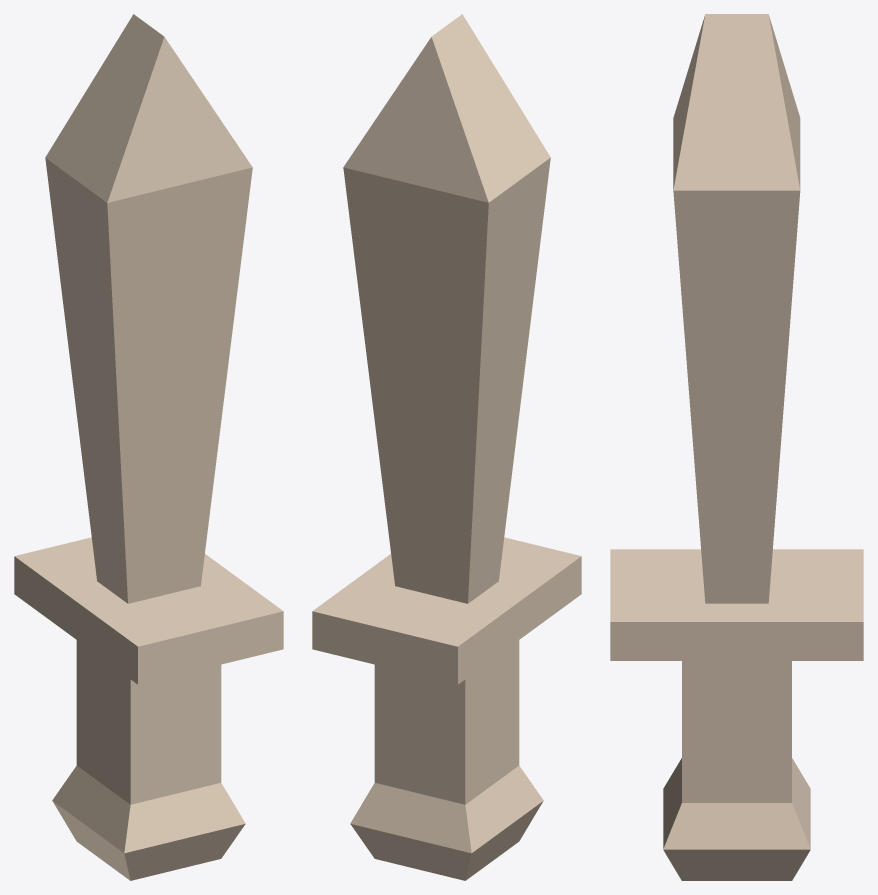
File: sword.fbx
The picture shows the model from 3 angles, left to right: view 1: azimuth 30°, elevation 25°; view 2: azimuth 150°, elevation 25°; view 3: azimuth 270°, elevation 25°; orthographic projection. The views are drawn at different scales.
Parts seen in each view (by area): view 1: sword; view 2: sword; view 3: sword.
Part boxes in pixels (x1,y1,x2,y2): sword: (14,14,283,880); sword: (312,14,581,880); sword: (610,14,863,880).
Size of the model in its own units: 20.16 by 109 by 29.7.
